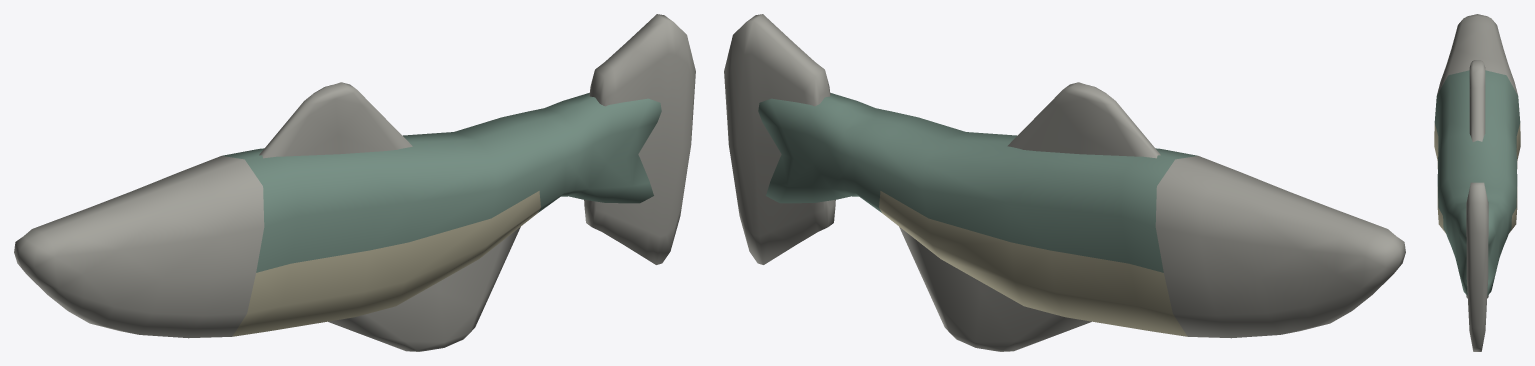
Rendered from quaternius-pirate-prop-fish-mackerel.glb.
3 renders of one model, left to right at view 1: azimuth 30°, elevation 25°; view 2: azimuth 150°, elevation 25°; view 3: azimuth 270°, elevation 25°, orthographic. The views are drawn at different scales.
Visible parts, largest first — view 1: Prop_Fish_Mackerel; view 2: Prop_Fish_Mackerel; view 3: Prop_Fish_Mackerel.
Part boxes in pixels (box(x1,y1,x2,y2)): Prop_Fish_Mackerel: box(14, 14, 695, 351); Prop_Fish_Mackerel: box(724, 14, 1405, 351); Prop_Fish_Mackerel: box(1434, 14, 1520, 351).
Bounding box in the file's own units: 1.56 × 0.6294 × 0.2494.
1 material, 1 textured.
